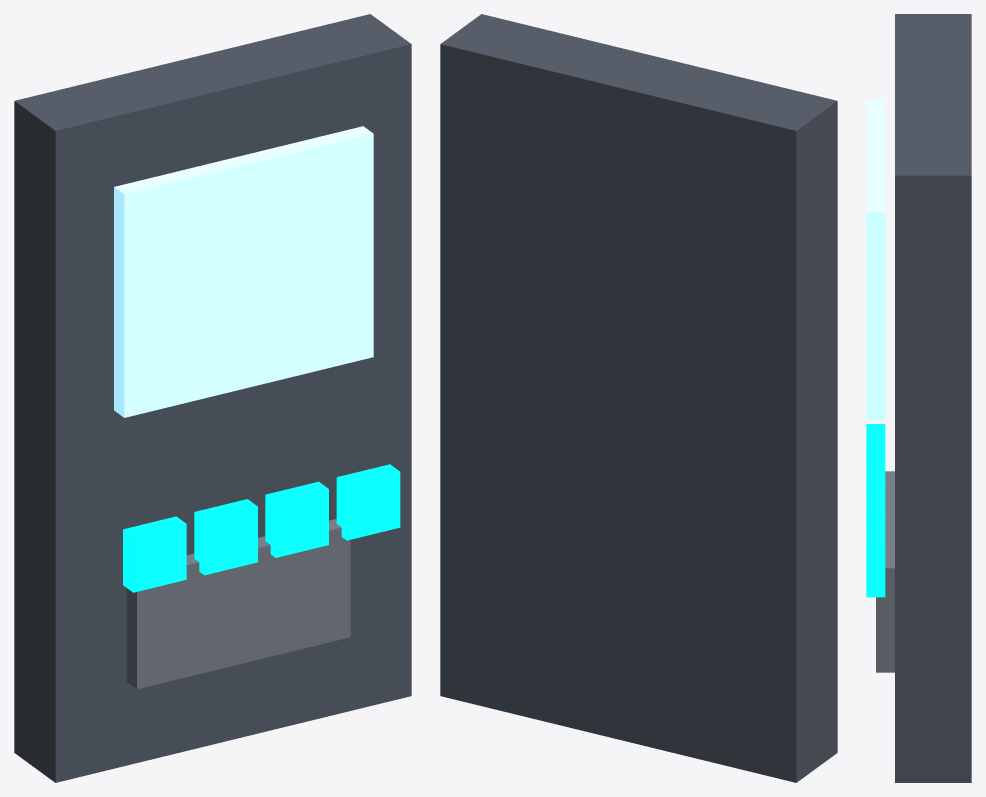
The model's file is DETAIL_Intercom_Panel.glb.
The picture shows the model from 3 angles, left to right: view 1: azimuth 30°, elevation 25°; view 2: azimuth 150°, elevation 25°; view 3: azimuth 270°, elevation 25°; orthographic projection. The views are drawn at different scales.
Parts seen in each view (by area): view 1: DETAIL_Intercom_Panel; view 2: DETAIL_Intercom_Panel; view 3: DETAIL_Intercom_Panel.
Boxes of the visible parts, <box> form: DETAIL_Intercom_Panel: <box>14,14,411,782</box>; DETAIL_Intercom_Panel: <box>440,14,837,782</box>; DETAIL_Intercom_Panel: <box>866,14,971,782</box>.
Bounding box in the file's own units: 0.2 × 0.35 × 0.0551.
